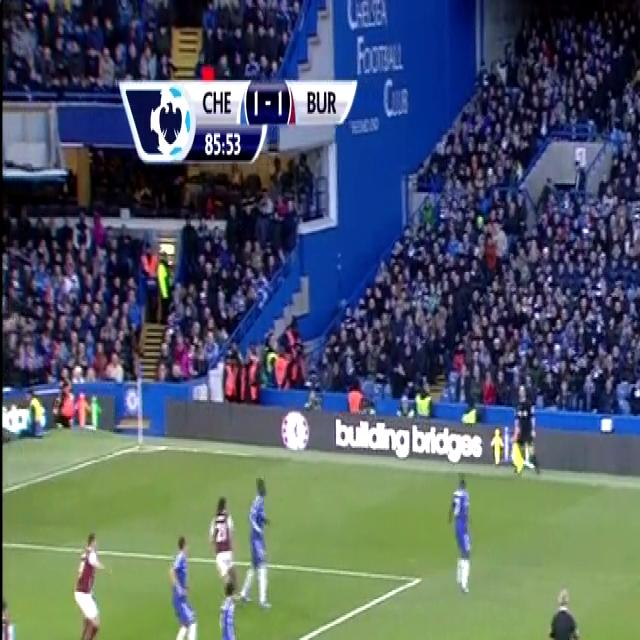referee: (506, 371, 544, 481), (537, 570, 587, 640)
soccer-player: (67, 519, 110, 640), (244, 470, 279, 616), (442, 467, 478, 601), (161, 522, 199, 640), (205, 484, 241, 601), (209, 585, 249, 640), (0, 588, 19, 640)
